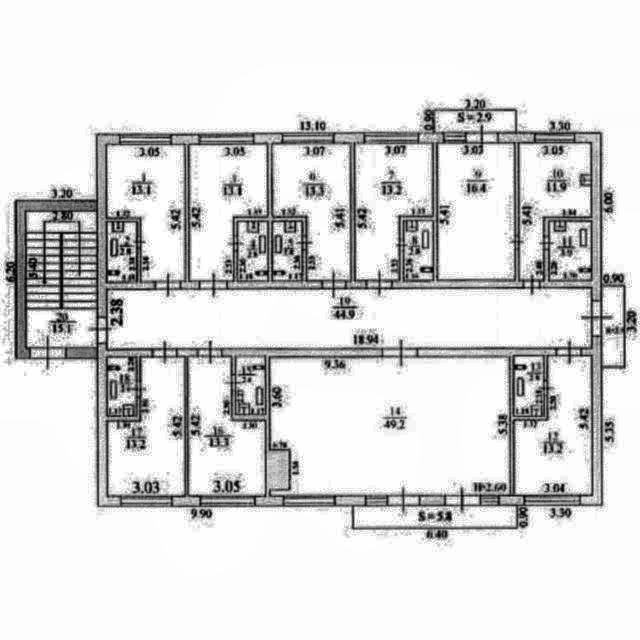room: (269, 357, 510, 496), (106, 289, 591, 349), (514, 356, 592, 496), (107, 145, 186, 281), (108, 358, 185, 496), (189, 145, 267, 281), (272, 144, 350, 280), (355, 145, 433, 281), (189, 357, 265, 496), (438, 143, 514, 280), (519, 143, 591, 281), (26, 211, 98, 348), (353, 506, 516, 527), (549, 221, 592, 281), (106, 222, 137, 283), (514, 356, 544, 416), (236, 357, 266, 415), (273, 222, 302, 281), (404, 220, 433, 279), (107, 357, 136, 415), (239, 222, 267, 282), (602, 287, 623, 366), (435, 111, 516, 131)
